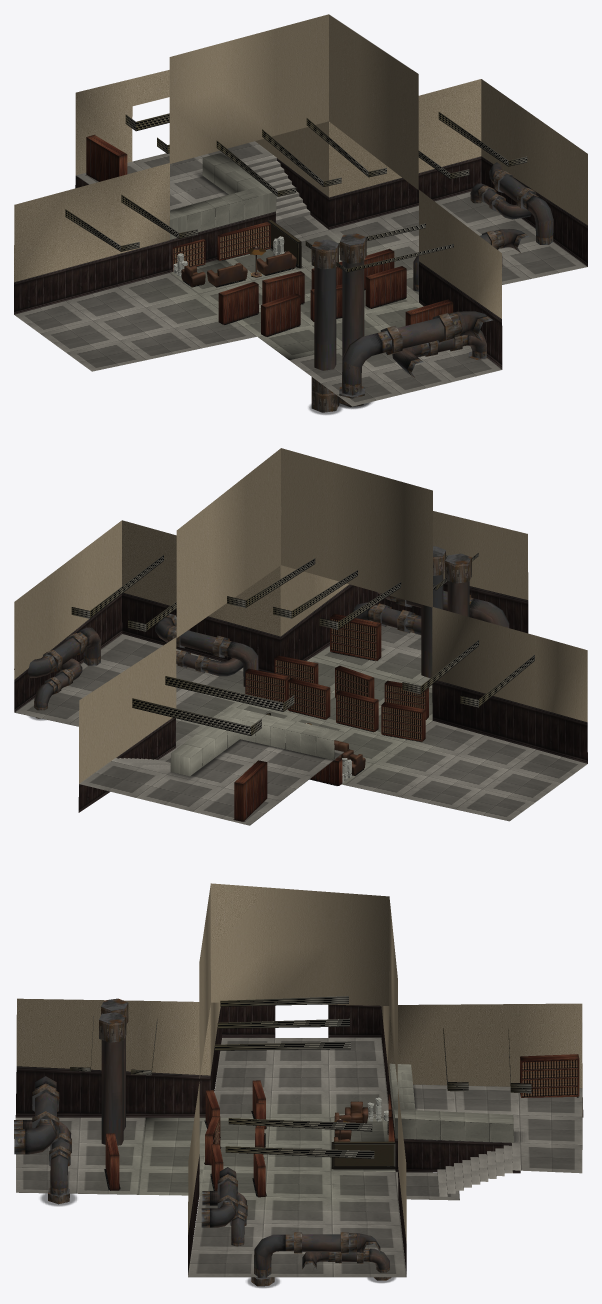
File: room_7.glb
The picture shows the model from 3 angles, top to bottom: view 1: azimuth 30°, elevation 25°; view 2: azimuth 150°, elevation 25°; view 3: azimuth 270°, elevation 25°; orthographic projection. The views are drawn at different scales.
Visible parts, largest first — view 1: wall, floor, wall22, pCube1 (×7), Borders, LargeStraightPipe2 (×2), LargePipe1Elbow2 (×2), stairs, polySurface1 (×2), new_End5 (×2), platform_wall, LB_couchA6 (×2) (+11 smaller); view 2: wall, floor, wall22, polySurface1 (×8), Borders, pCube1 (×3), LargeStraightPipe2 (×3), LargePipe1Elbow2 (×2), Lights9, Lights10, LargePipe2Elbow2, Lights6 (+9 smaller); view 3: floor, wall, wall22, Borders, platform_wall, stairs, LargeStraightPipe2, polySurface1, Partition_A_Panel, pCube1 (×2), Lights6, LargePipe1Elbow1 (+9 smaller).
Boxes of the visible parts, x1,y1,x2,y2 form: wall: (14,14,587,318); floor: (14,141,587,406); wall22: (14,156,587,369); pCube1 (×7): (86,134,453,336); Borders: (169,153,276,239); LargeStraightPipe2 (×2): (314,261,364,370); LargePipe1Elbow2 (×2): (342,192,553,395); stairs: (244,155,310,223); polySurface1 (×2): (173,225,269,266); new_End5 (×2): (311,233,366,269); platform_wall: (169,211,275,272); LB_couchA6 (×2): (207,251,296,286); wall: (14,448,587,783); floor: (15,620,587,825); wall22: (14,580,587,812); polySurface1 (×8): (246,618,425,739); Borders: (170,707,344,776); pCube1 (×3): (234,613,381,821); LargeStraightPipe2 (×3): (180,575,469,678); LargePipe1Elbow2 (×2): (76,597,509,665); Lights9: (132,698,261,735); Lights10: (165,676,294,711); LargePipe2Elbow2: (220,639,258,686); Lights6: (71,555,163,618); floor: (15,1037,582,1277); wall: (16,883,582,1243); wall22: (15,1004,583,1274); Borders: (389,1063,513,1142); platform_wall: (389,1085,520,1173); stairs: (437,1142,520,1196); LargeStraightPipe2: (101,1040,123,1145); polySurface1: (522,1059,577,1096); Partition_A_Panel: (331,1141,395,1169); pCube1 (×2): (105,1054,579,1190); Lights6: (225,1146,374,1158); LargePipe1Elbow1: (14,1119,56,1154).
Size of the model in its own units: 139 by 72.72 by 137.
Materials: 21 (21 with a texture image).
